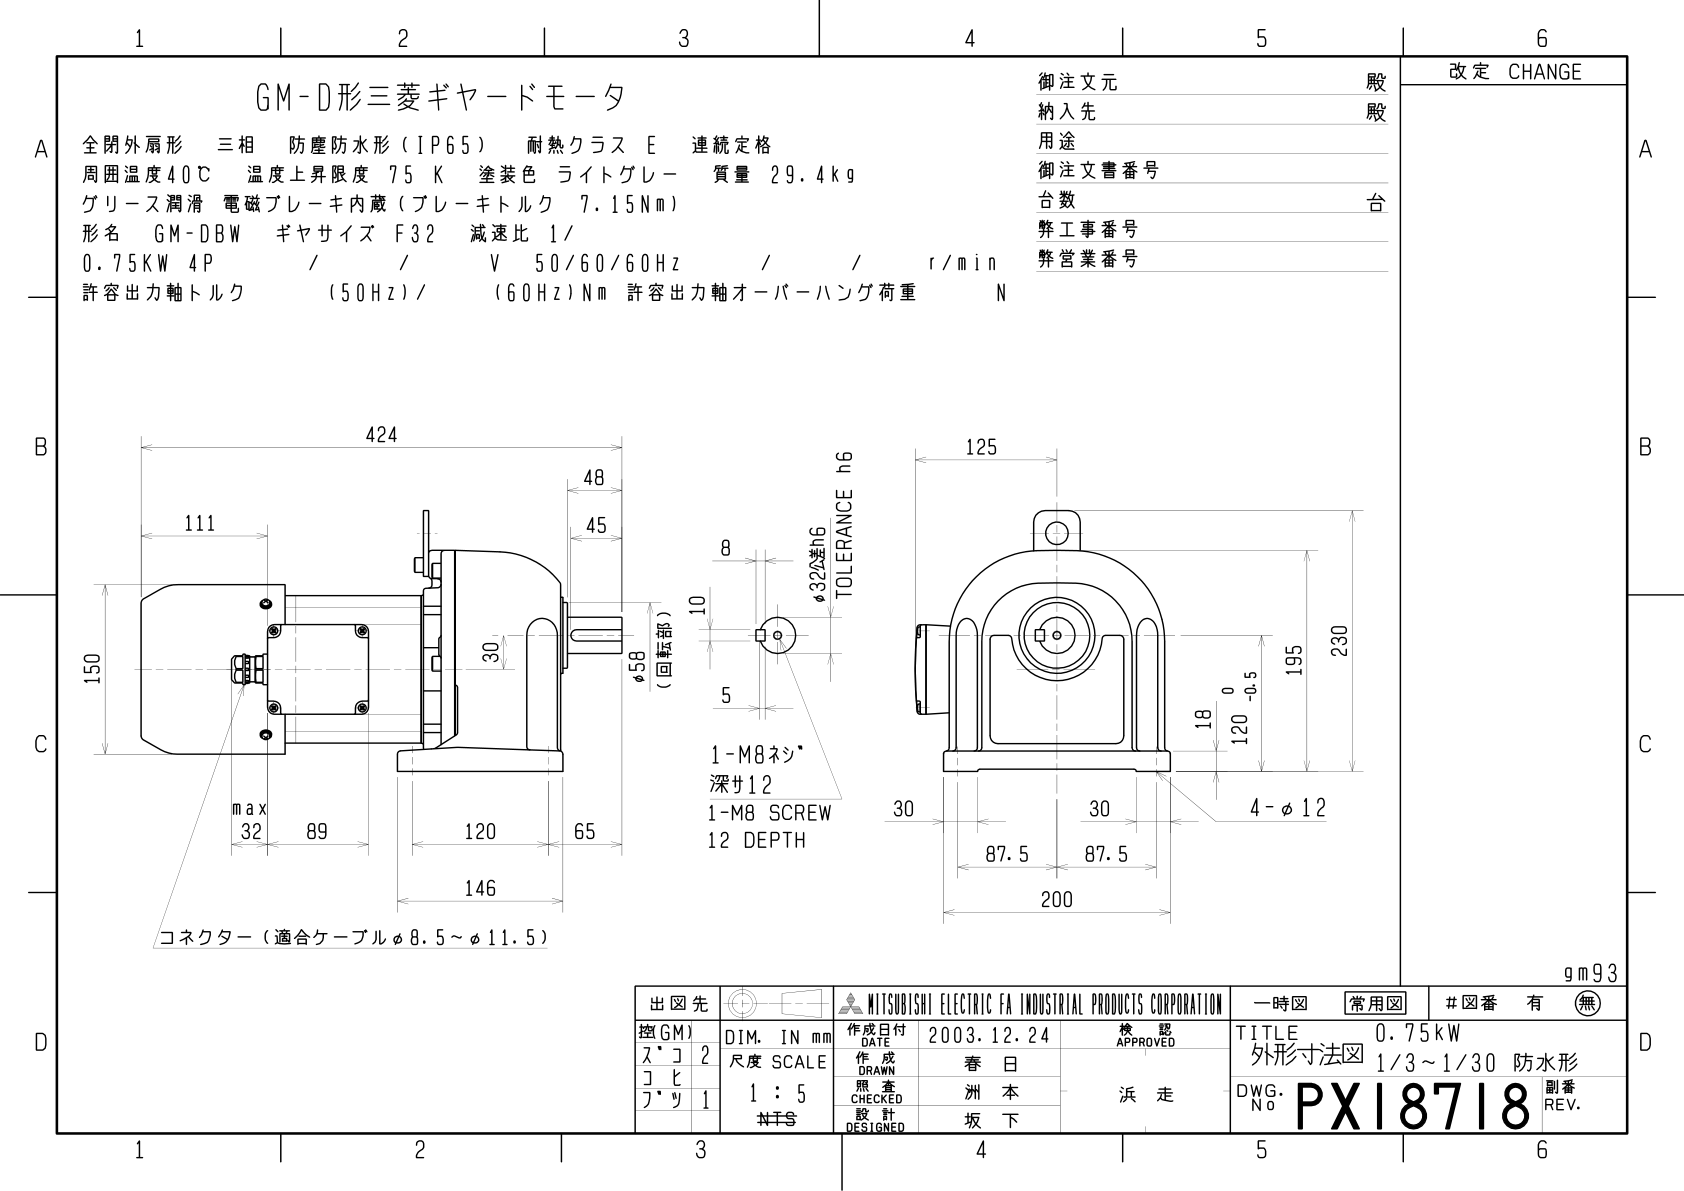GM_D_IP65_三相_脚: (71, 351, 1383, 963)
